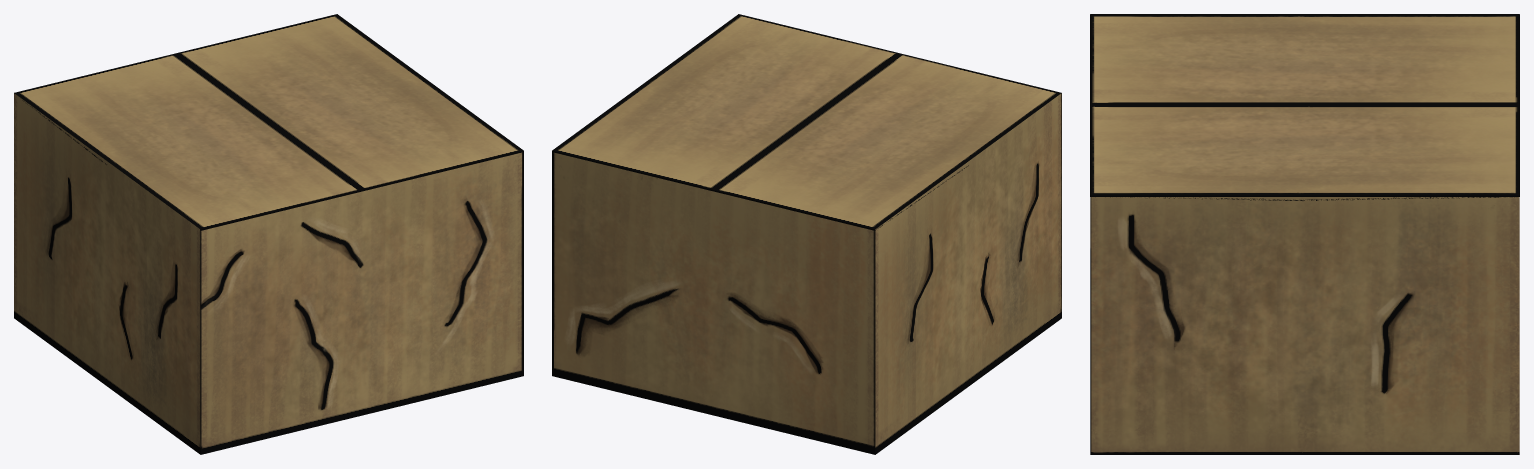
3 views of the same model, side by side, from view 1: azimuth 30°, elevation 25°; view 2: azimuth 150°, elevation 25°; view 3: azimuth 270°, elevation 25° (orthographic). The views are drawn at different scales.
Visible parts, largest first — view 1: Box001.001, BoxPartTop.001, BoxPartToop.001, BoxPartBot.002; view 2: Box001.001, BoxPartTop.001, BoxPartToop.001, BoxPartBot.003; view 3: Box001.001, BoxPartToop.001, BoxPartTop.001.
Part boxes in pixels (x1=…): Box001.001: x1=14, y1=93, x2=523, y2=454; BoxPartTop.001: x1=14, y1=53, x2=361, y2=229; BoxPartToop.001: x1=176, y1=14, x2=523, y2=189; BoxPartBot.002: x1=200, y1=150, x2=523, y2=230; Box001.001: x1=552, y1=93, x2=1061, y2=454; BoxPartTop.001: x1=714, y1=53, x2=1061, y2=229; BoxPartToop.001: x1=552, y1=14, x2=899, y2=189; BoxPartBot.003: x1=552, y1=150, x2=968, y2=230; Box001.001: x1=1090, y1=197, x2=1519, y2=454; BoxPartToop.001: x1=1090, y1=104, x2=1519, y2=196; BoxPartTop.001: x1=1090, y1=14, x2=1519, y2=104.
Size of the model in its own units: 89.33 by 59.56 by 89.37.
